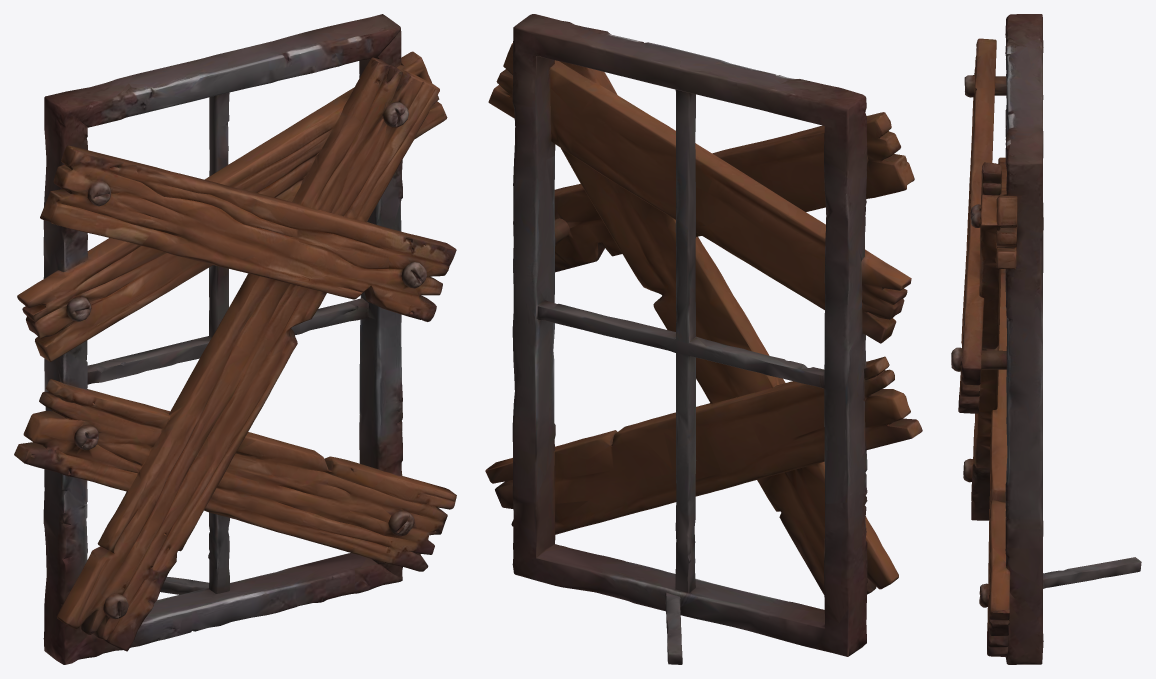
Rendered from barricade_planks_doski_na_okne_idle.glb.
The picture shows the model from 3 angles, left to right: view 1: azimuth 30°, elevation 25°; view 2: azimuth 150°, elevation 25°; view 3: azimuth 270°, elevation 25°; orthographic projection. The views are drawn at different scales.
Visible parts, largest first — view 1: tripo_node_eb621aec-f494-4ccb-b05b-ccf1806d8048; view 2: tripo_node_eb621aec-f494-4ccb-b05b-ccf1806d8048; view 3: tripo_node_eb621aec-f494-4ccb-b05b-ccf1806d8048.
Part boxes in pixels (x1,y1,x2,y2): tripo_node_eb621aec-f494-4ccb-b05b-ccf1806d8048: (14,14,456,664); tripo_node_eb621aec-f494-4ccb-b05b-ccf1806d8048: (485,14,922,664); tripo_node_eb621aec-f494-4ccb-b05b-ccf1806d8048: (951,14,1141,664).
Size of the model in its own units: 1.63 by 2 by 0.6841.
1 material, 1 textured.
